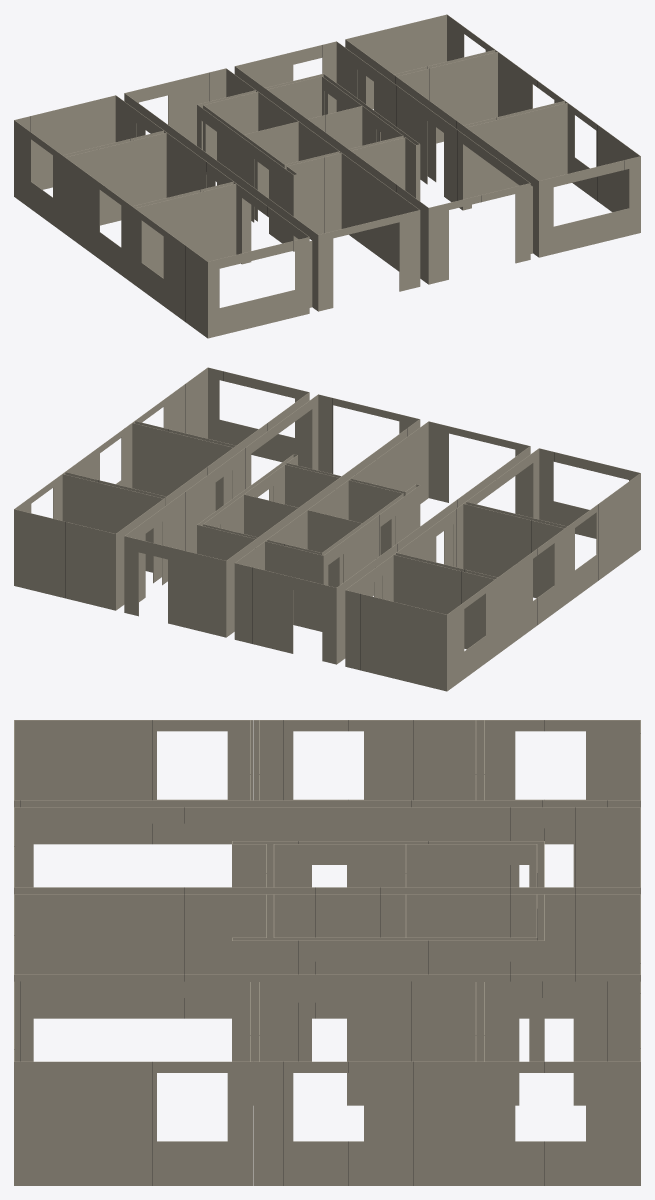
Rendered from Kips_3_kiht.glb.
3 renders of one model, top to bottom at view 1: azimuth 30°, elevation 25°; view 2: azimuth 150°, elevation 25°; view 3: azimuth 270°, elevation 25°, orthographic. The views are drawn at different scales.
Parts seen in each view (by area): view 1: Kipsplaat_1417 (×4), Kipsplaat_1395 (×2), Kipsplaat_1429 (×6), Kipsplaat_1403 (×2), Kipsplaat_1407 (×2), Kipsplaat_1399 (×2), Kipsplaat_1404 (×2), Kipsplaat_1400 (×2), Kipsplaat_1412 (×2), Kipsplaat_1410 (×2), Kipsplaat_1397 (×2), Kipsplaat_1435 (×2) (+5 smaller); view 2: Kipsplaat_1417 (×4), Kipsplaat_1395 (×2), Kipsplaat_1399 (×2), Kipsplaat_1400 (×2), Kipsplaat_1407 (×2), Kipsplaat_1403 (×2), Kipsplaat_1404 (×2), Kipsplaat_1442 (×2), Kipsplaat_1410 (×2), Kipsplaat_1412 (×2), Kipsplaat_1440 (×2), Kipsplaat_1429 (×2) (+7 smaller); view 3: Kipsplaat_1395 (×2), Kipsplaat_1407 (×2), Kipsplaat_1397 (×2), Kipsplaat_1412 (×2), Kipsplaat_1435 (×2), Kipsplaat_1398 (×2), Kipsplaat_1411 (×2), Kipsplaat_1410 (×2), Kipsplaat_1396 (×2), Kipsplaat_1409 (×2).
Boxes of the visible parts, <box> form: Kipsplaat_1417 (×4): <box>66,52,567,278</box>; Kipsplaat_1395 (×2): <box>14,14,640,338</box>; Kipsplaat_1429 (×6): <box>203,76,405,239</box>; Kipsplaat_1403 (×2): <box>208,156,640,338</box>; Kipsplaat_1407 (×2): <box>226,66,428,286</box>; Kipsplaat_1399 (×2): <box>15,14,446,189</box>; Kipsplaat_1404 (×2): <box>318,183,530,311</box>; Kipsplaat_1400 (×2): <box>125,41,336,145</box>; Kipsplaat_1412 (×2): <box>197,74,419,243</box>; Kipsplaat_1410 (×2): <box>174,78,455,202</box>; Kipsplaat_1397 (×2): <box>165,75,464,197</box>; Kipsplaat_1435 (×2): <box>203,76,415,221</box>; Kipsplaat_1417 (×4): <box>62,423,564,649</box>; Kipsplaat_1395 (×2): <box>14,367,640,691</box>; Kipsplaat_1399 (×2): <box>14,509,446,691</box>; Kipsplaat_1400 (×2): <box>124,536,336,664</box>; Kipsplaat_1407 (×2): <box>226,419,428,639</box>; Kipsplaat_1403 (×2): <box>208,367,639,538</box>; Kipsplaat_1404 (×2): <box>318,394,529,515</box>; Kipsplaat_1442 (×2): <box>197,525,323,631</box>; Kipsplaat_1410 (×2): <box>174,449,456,566</box>; Kipsplaat_1412 (×2): <box>197,454,419,596</box>; Kipsplaat_1440 (×2): <box>285,464,402,554</box>; Kipsplaat_1429 (×2): <box>244,494,361,587</box>; Kipsplaat_1395 (×2): <box>14,720,640,1185</box>; Kipsplaat_1407 (×2): <box>14,887,640,1018</box>; Kipsplaat_1397 (×2): <box>254,800,479,1105</box>; Kipsplaat_1412 (×2): <box>232,841,544,1061</box>; Kipsplaat_1435 (×2): <box>232,844,536,940</box>; Kipsplaat_1398 (×2): <box>479,800,640,1105</box>; Kipsplaat_1411 (×2): <box>479,807,640,981</box>; Kipsplaat_1410 (×2): <box>254,807,479,981</box>; Kipsplaat_1396 (×2): <box>14,800,254,1105</box>; Kipsplaat_1409 (×2): <box>14,807,254,981</box>.
Bounding box in the file's own units: 14.91 × 2.52 × 11.56.
